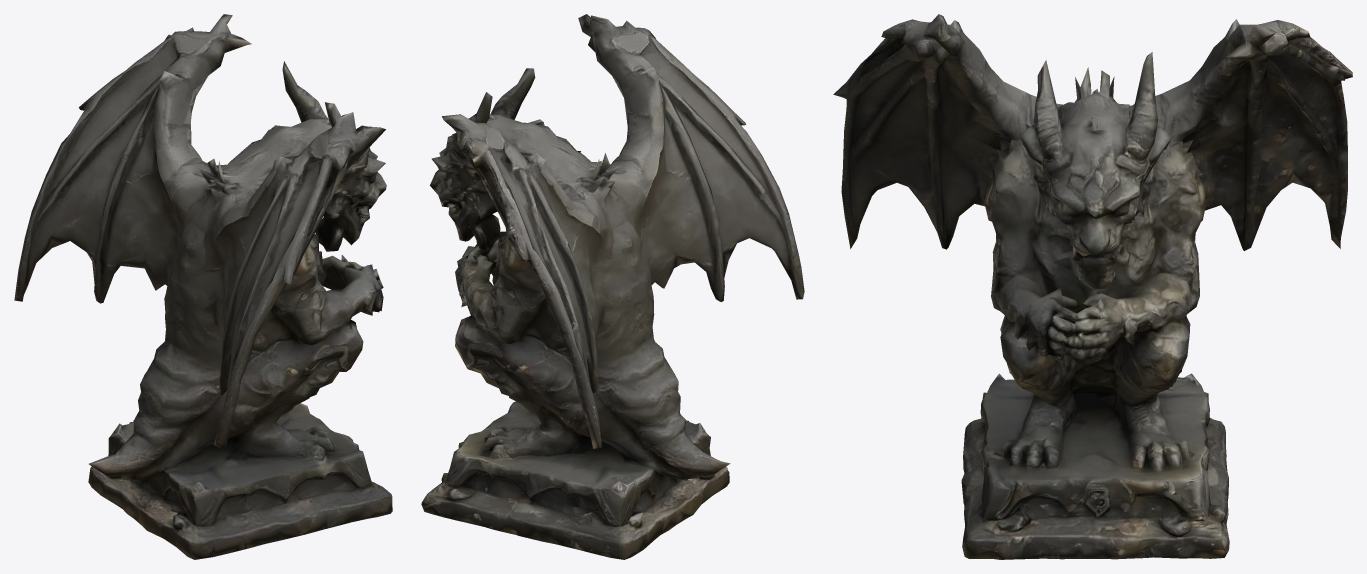
Rendered from gargoyle.glb.
3 renders of one model, left to right at view 1: azimuth 30°, elevation 25°; view 2: azimuth 150°, elevation 25°; view 3: azimuth 270°, elevation 25°, orthographic. The views are drawn at different scales.
Visible parts, largest first — view 1: tripo_node_9bdb1bc0-0d82-41df-be25-942de78a3a55; view 2: tripo_node_9bdb1bc0-0d82-41df-be25-942de78a3a55; view 3: tripo_node_9bdb1bc0-0d82-41df-be25-942de78a3a55.
Boxes of the visible parts, x1=… form: tripo_node_9bdb1bc0-0d82-41df-be25-942de78a3a55: x1=14, y1=14, x2=392, y2=559; tripo_node_9bdb1bc0-0d82-41df-be25-942de78a3a55: x1=421, y1=14, x2=804, y2=559; tripo_node_9bdb1bc0-0d82-41df-be25-942de78a3a55: x1=833, y1=14, x2=1352, y2=559.
Size of the model in its own units: 0.7391 by 1 by 0.9267.
1 material, 1 textured.
